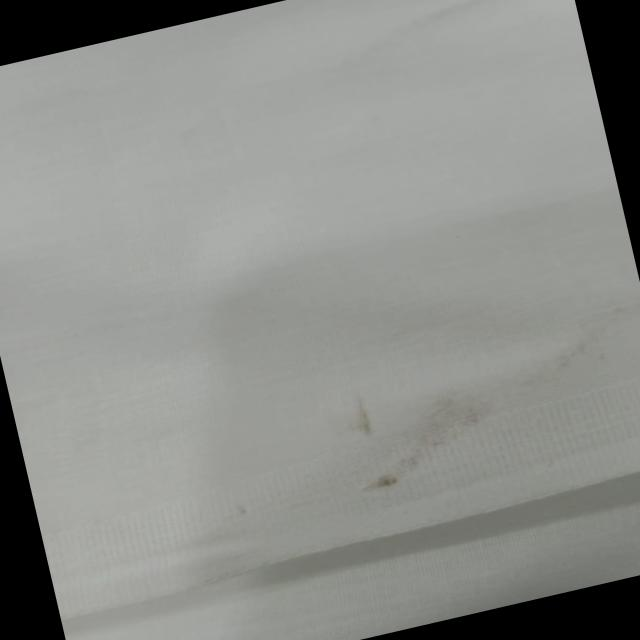stain: (319, 348, 516, 505)
